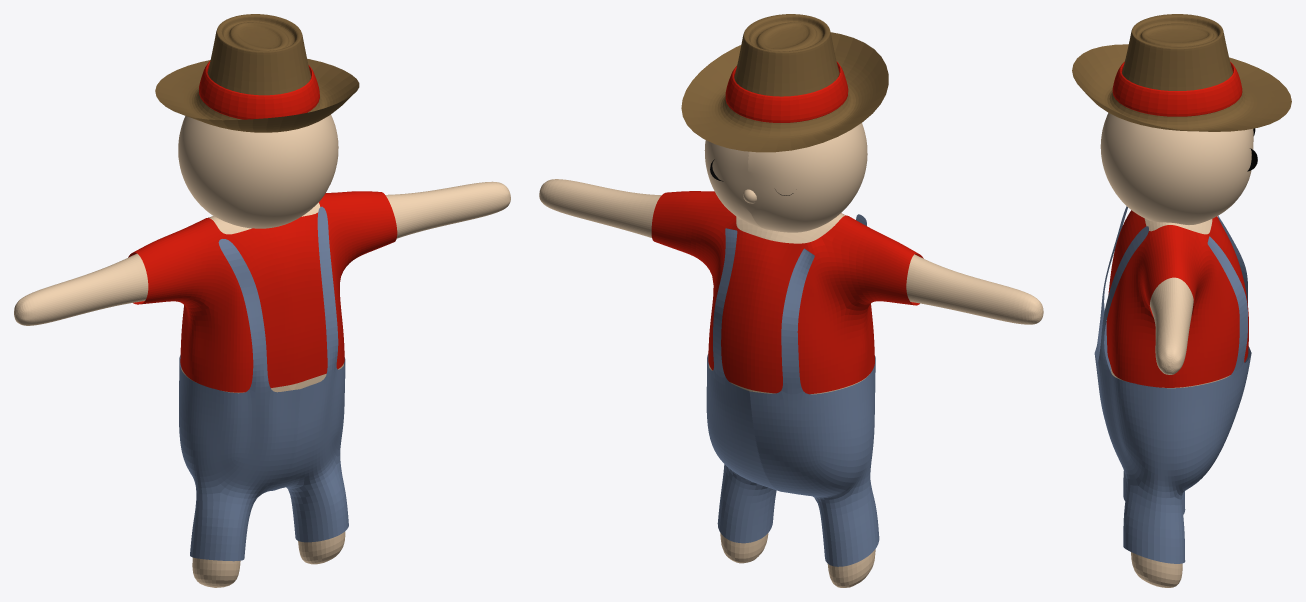
Rendered from Farmer_Raine.fbx.
3 renders of one model, left to right at view 1: azimuth 30°, elevation 25°; view 2: azimuth 150°, elevation 25°; view 3: azimuth 270°, elevation 25°, orthographic. The views are drawn at different scales.
Parts seen in each view (by area): view 1: Roundcube.002, Roundcube.003, Cylinder.001, Roundcube, Roundcube.001; view 2: Roundcube.002, Roundcube.003, Cylinder.001, Roundcube.001, Roundcube; view 3: Roundcube.003, Cylinder.001, Roundcube.002, Roundcube, Roundcube.001.
Boxes of the visible parts, <box> form: Roundcube.002: <box>128,191,397,392</box>; Roundcube.003: <box>179,206,348,561</box>; Cylinder.001: <box>155,14,359,132</box>; Roundcube: <box>178,114,338,228</box>; Roundcube.001: <box>14,181,510,587</box>; Roundcube.002: <box>651,191,923,394</box>; Roundcube.003: <box>706,214,879,566</box>; Cylinder.001: <box>681,14,888,152</box>; Roundcube.001: <box>539,179,1043,587</box>; Roundcube: <box>704,123,867,232</box>; Roundcube.003: <box>1094,206,1251,563</box>; Cylinder.001: <box>1072,14,1291,131</box>; Roundcube.002: <box>1106,210,1248,387</box>; Roundcube: <box>1100,113,1253,224</box>; Roundcube.001: <box>1110,218,1230,587</box>.
Size of the model in its own units: 235 by 244 by 91.46.
